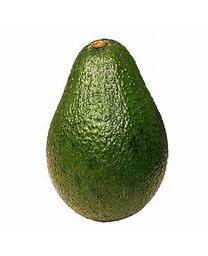avocado: (45, 38, 169, 224)
